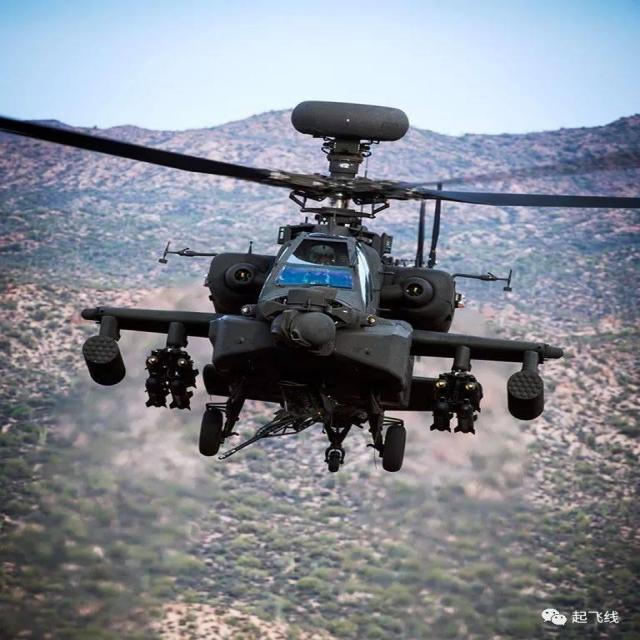MIL_HELO: (0, 97, 640, 479)
